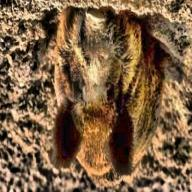boar: (40, 0, 175, 192)
